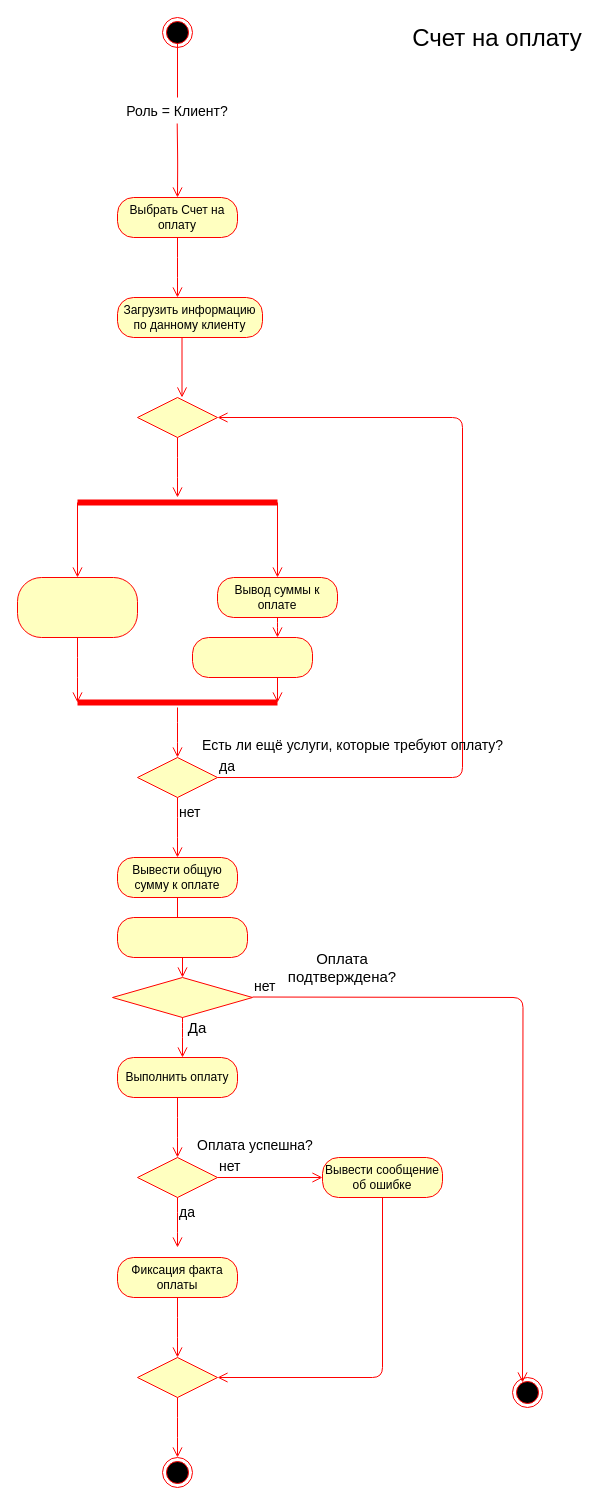
Image size: 610x1505. Some labels were removed from this diagram. Here are the shapes that lost their labels. From the top down, the box of each, then its label:
(16, 576, 138, 638): Вывод названия услуги
(192, 636, 312, 678): Добавить к общей сумме
(116, 916, 248, 958): Запросить подтверждение оплаты
